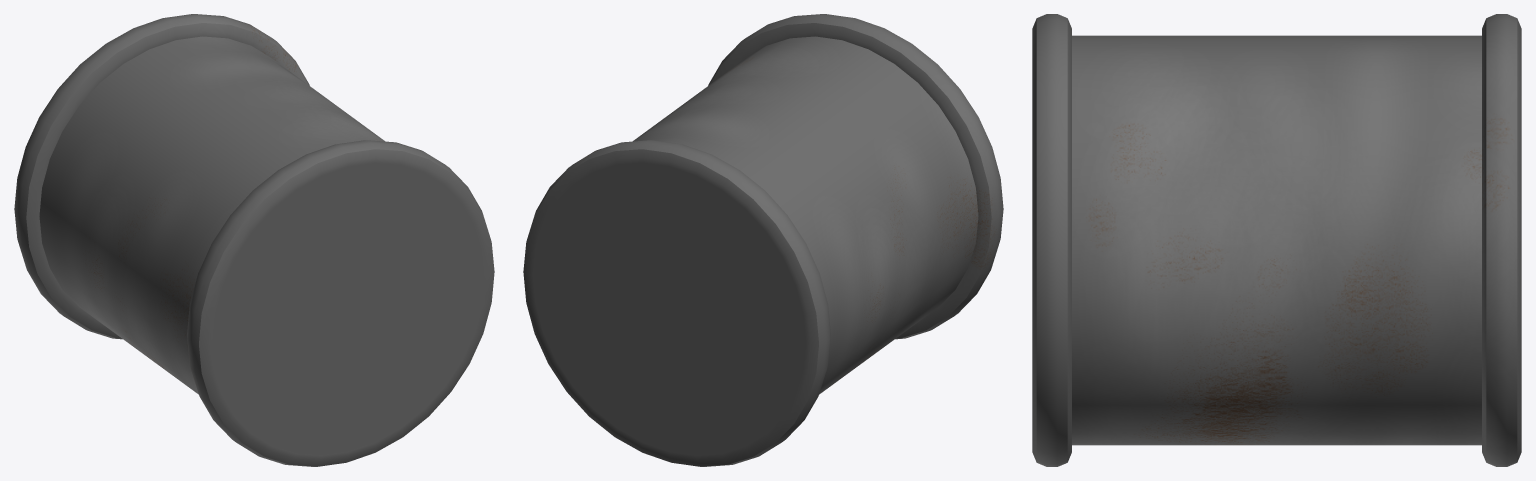
Rendered from pipes_straight.fbx.
3 views of the same model, side by side, from view 1: azimuth 30°, elevation 25°; view 2: azimuth 150°, elevation 25°; view 3: azimuth 270°, elevation 25° (orthographic). The views are drawn at different scales.
Visible parts, largest first — view 1: Straight_Pipe; view 2: Straight_Pipe; view 3: Straight_Pipe.
Part boxes in pixels (<box>): Straight_Pipe: <box>14,14,494,466</box>; Straight_Pipe: <box>523,14,1003,466</box>; Straight_Pipe: <box>1032,14,1521,466</box>.
Bounding box in the file's own units: 221 × 221 × 238.
